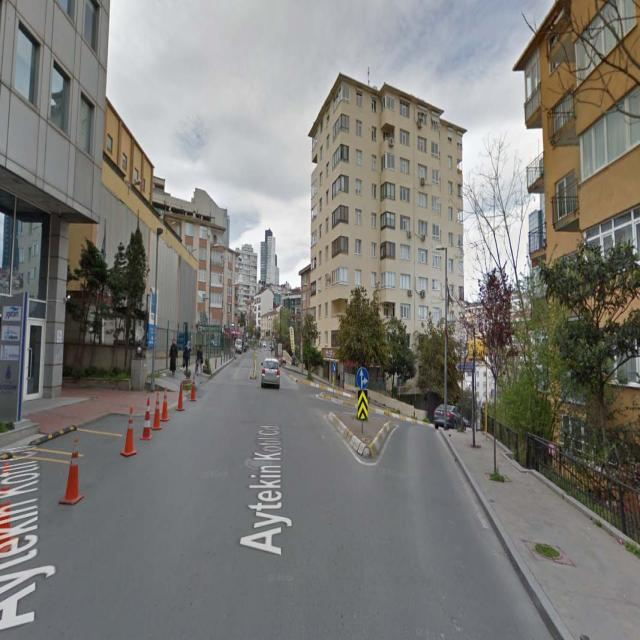ilerisag: (357, 367, 369, 392)
